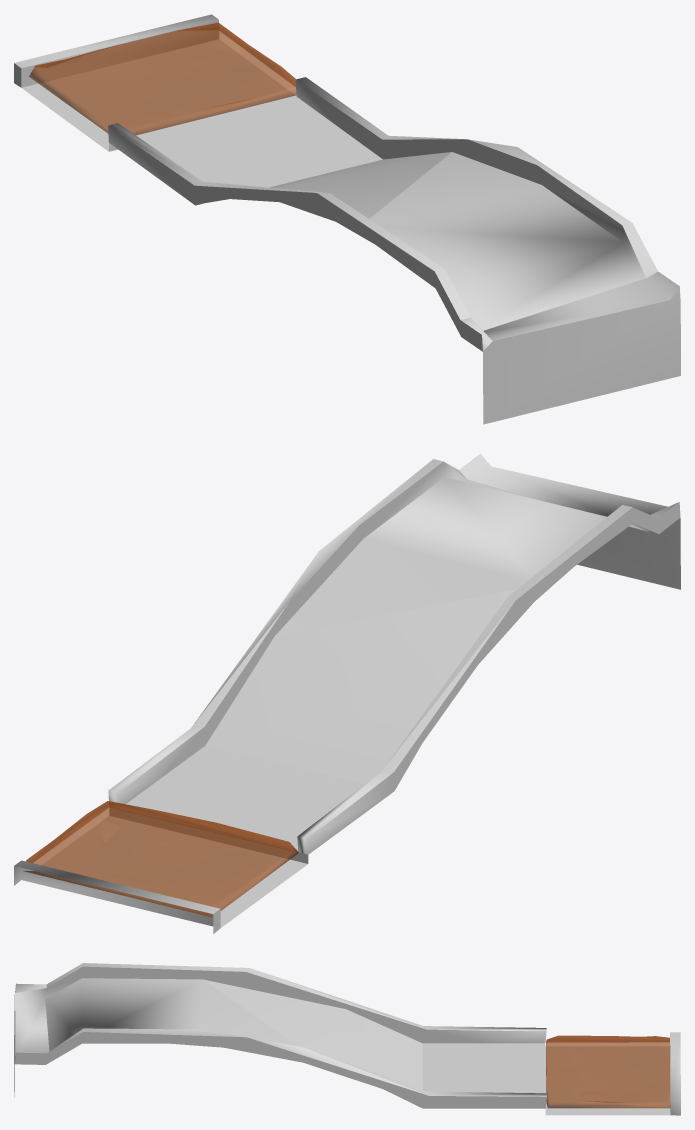
File: RespawnPointModel_LOD1.fbx
3 renders of one model, top to bottom at view 1: azimuth 30°, elevation 25°; view 2: azimuth 150°, elevation 25°; view 3: azimuth 270°, elevation 25°, orthographic. The views are drawn at different scales.
Visible parts, largest first — view 1: Cube.011, Cube.012; view 2: Cube.011, Cube.012; view 3: Cube.011, Cube.012.
Part boxes in pixels (x1,y1,x2,y2): Cube.011: (14, 14, 680, 424); Cube.012: (29, 22, 296, 135); Cube.011: (14, 453, 680, 933); Cube.012: (23, 801, 298, 917); Cube.011: (14, 963, 680, 1115); Cube.012: (546, 1035, 670, 1108).
Bounding box in the file's own units: 1053 × 596 × 4272.
